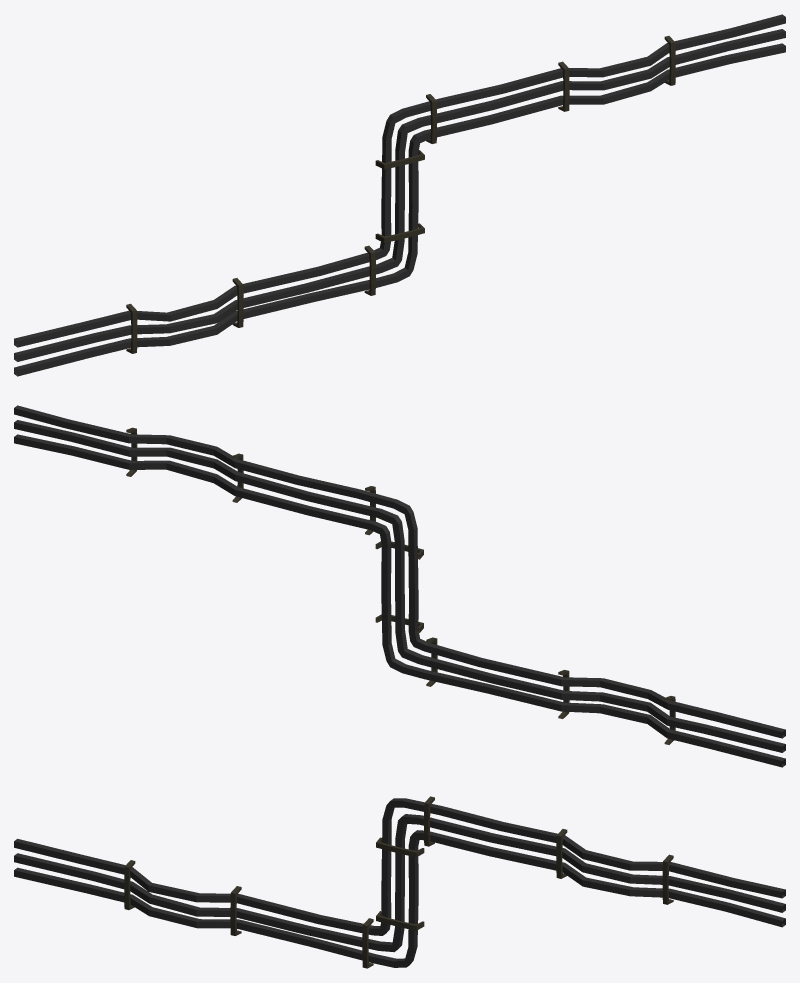
The model's file is SW_ENV_Wires3_RailTunnelWall_SBend_01_05m.fbx.
The picture shows the model from 3 angles, top to bottom: view 1: azimuth 30°, elevation 25°; view 2: azimuth 150°, elevation 25°; view 3: azimuth 330°, elevation 25°; orthographic projection.
Parts seen in each view (by area): view 1: SW_ENV_Wires3_RailTunnelWall_SBend_01_05m; view 2: SW_ENV_Wires3_RailTunnelWall_SBend_01_05m; view 3: SW_ENV_Wires3_RailTunnelWall_SBend_01_05m.
Boxes of the visible parts, x1=… form: SW_ENV_Wires3_RailTunnelWall_SBend_01_05m: x1=14, y1=14, x2=785, y2=376; SW_ENV_Wires3_RailTunnelWall_SBend_01_05m: x1=14, y1=405, x2=785, y2=767; SW_ENV_Wires3_RailTunnelWall_SBend_01_05m: x1=14, y1=796, x2=785, y2=968.
Size of the model in its own units: 500 by 114 by 14.88.
